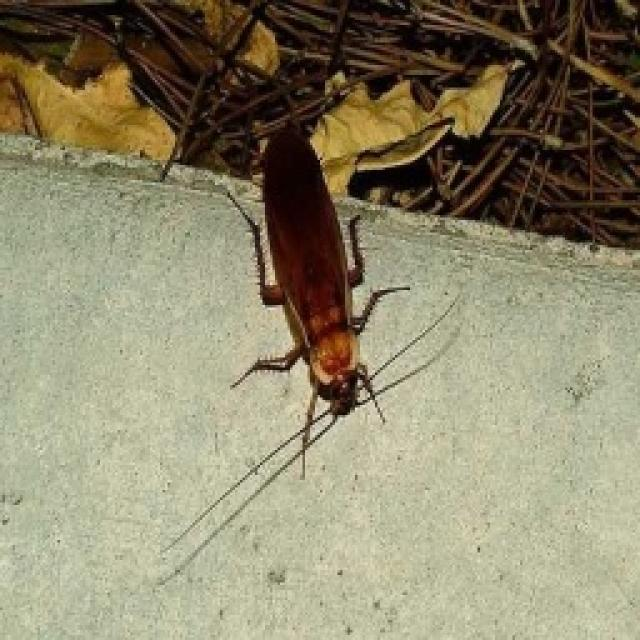cockroach: (217, 88, 429, 478)
